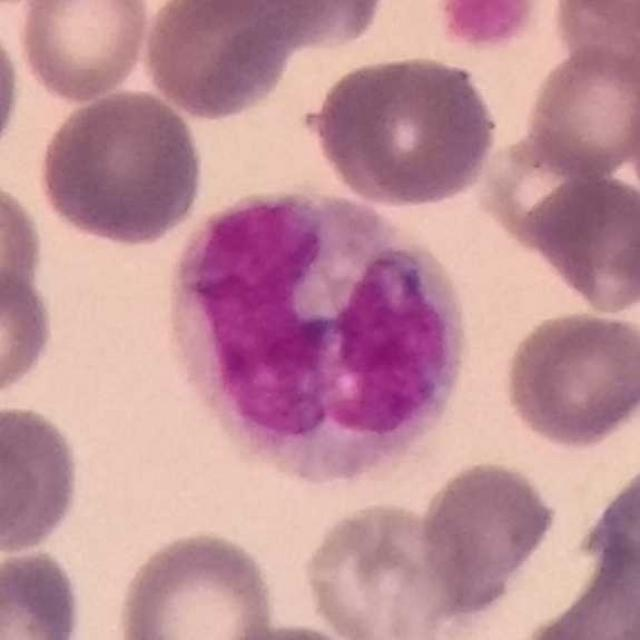mono: (164, 181, 471, 486)
